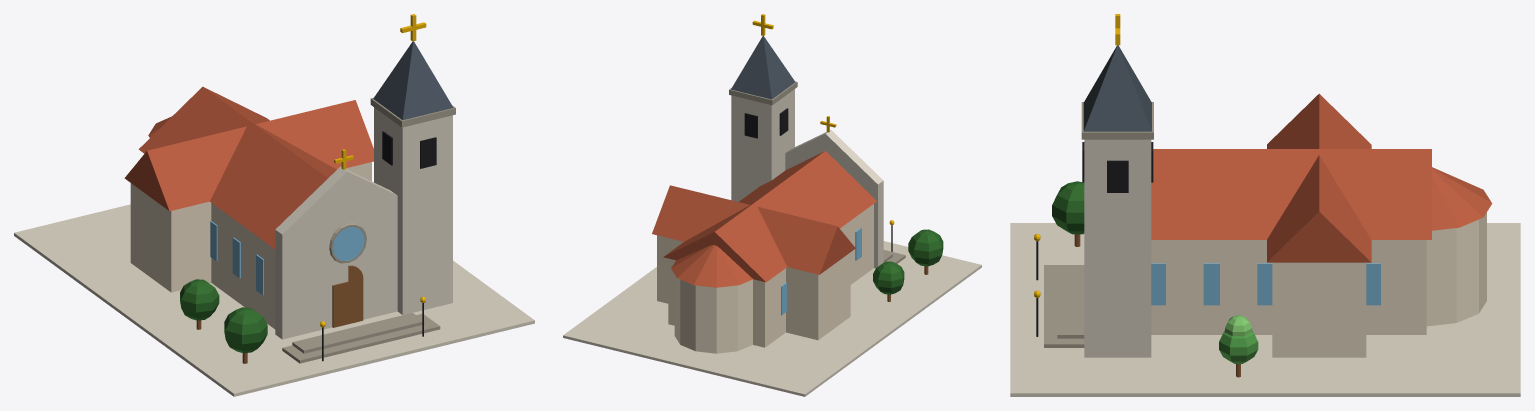
Rendered from church.glb.
The picture shows the model from 3 angles, left to right: view 1: azimuth 30°, elevation 25°; view 2: azimuth 150°, elevation 25°; view 3: azimuth 270°, elevation 25°; orthographic projection. The views are drawn at different scales.
Parts seen in each view (by area): view 1: church_mat_d9d2c3, church_mat_b7583a, church_mat_e9dcc5, church_mat_a39c8c, church_mat_4a5560, church_mat_2f6b2b, church_mat_7cb8d9 (×2), church_mat_8a5a33, church_mat_1e1e22, church_mat_f2b705; view 2: church_mat_d9d2c3, church_mat_b7583a, church_mat_e9dcc5, church_mat_4a5560, church_mat_2f6b2b, church_mat_a39c8c, church_mat_1e1e22, church_mat_7cb8d9; view 3: church_mat_d9d2c3, church_mat_b7583a, church_mat_e9dcc5, church_mat_a39c8c, church_mat_4a5560, church_mat_7cb8d9, church_mat_2f6b2b, church_mat_4f9d47, church_mat_1e1e22, church_mat_7cc46a.
Boxes of the visible parts, box(x1,y1,x2,y2) form: church_mat_d9d2c3: box(14, 107, 534, 396); church_mat_b7583a: box(124, 86, 373, 248); church_mat_e9dcc5: box(130, 162, 371, 329); church_mat_a39c8c: box(282, 98, 455, 363); church_mat_4a5560: box(373, 41, 453, 120); church_mat_2f6b2b: box(180, 279, 267, 353); church_mat_7cb8d9 (×2): box(210, 221, 364, 295); church_mat_8a5a33: box(196, 265, 363, 363); church_mat_1e1e22: box(382, 131, 436, 168); church_mat_f2b705: box(320, 14, 426, 327); church_mat_d9d2c3: box(563, 89, 981, 396); church_mat_b7583a: box(652, 151, 876, 287); church_mat_e9dcc5: box(657, 204, 873, 353); church_mat_4a5560: box(731, 36, 795, 99); church_mat_2f6b2b: box(873, 229, 943, 294); church_mat_a39c8c: box(729, 81, 905, 263); church_mat_1e1e22: box(744, 108, 788, 138); church_mat_7cb8d9: box(781, 228, 861, 315); church_mat_d9d2c3: box(1010, 139, 1520, 396); church_mat_b7583a: box(1151, 93, 1492, 262); church_mat_e9dcc5: box(1151, 212, 1486, 357); church_mat_a39c8c: box(1044, 102, 1153, 347); church_mat_4a5560: box(1083, 45, 1151, 131); church_mat_7cb8d9: box(1151, 263, 1380, 305); church_mat_2f6b2b: box(1052, 181, 1084, 234); church_mat_4f9d47: box(1219, 330, 1258, 363); church_mat_1e1e22: box(1082, 142, 1153, 192); church_mat_7cc46a: box(1225, 315, 1252, 336).
Bounding box in the file's own units: 30 × 27.9 × 38.
